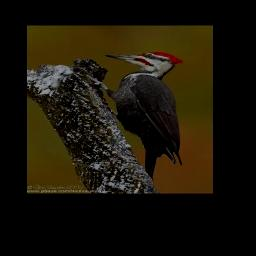Woodpecker: (87, 51, 184, 183)
